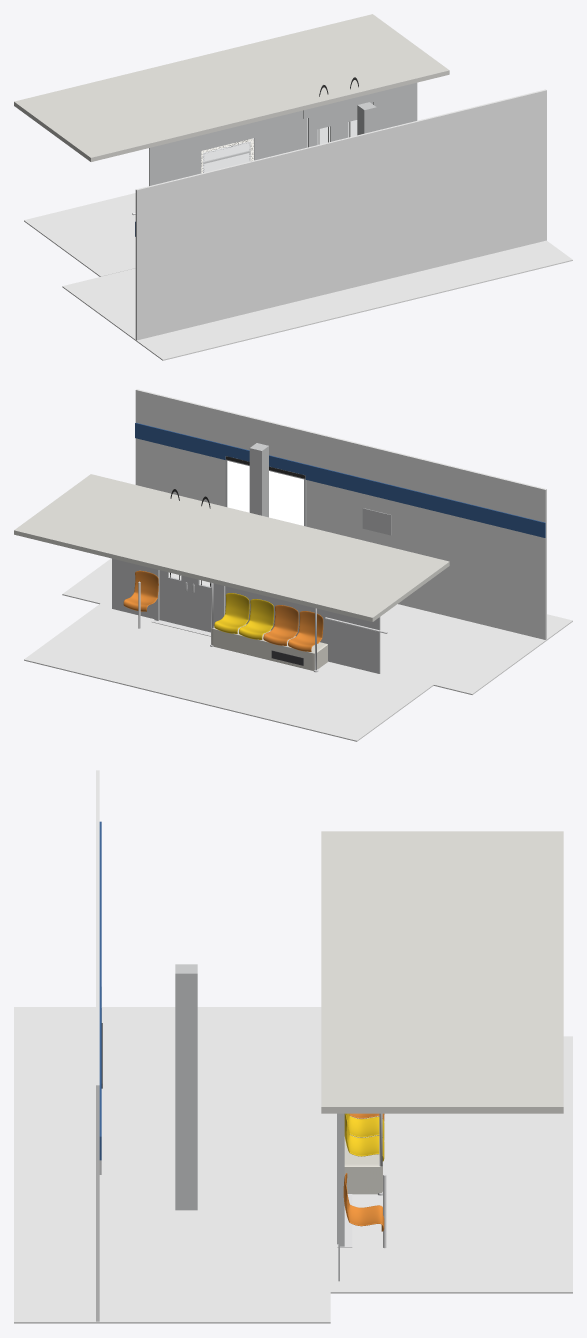
File: subway.glb
3 views of the same model, one above another, from view 1: azimuth 30°, elevation 25°; view 2: azimuth 150°, elevation 25°; view 3: azimuth 270°, elevation 25° (orthographic). The views are drawn at different scales.
Parts seen in each view (by area): view 1: Platform_Tile_Wall, Subway_Ceiling, Platform_Floor, Car_Floor, Wall_Panel_Right, Wall_Panel_Far_Left, Wall_Panel_Yellow_Seats, Window_Glass_Pane, Wall_Above_Window, Door_Right_Photo, Door_Header_Housing, Platform_Steel_Column; view 2: Platform_Tile_Wall, Subway_Ceiling, Car_Floor, Platform_Floor, Platform_Mosaic_Band, Platform_Map_Display, Wall_Panel_Right, Bench_Plinth, Door_Left_Photo, Platform_Steel_Column, Wall_Panel_Far_Left, Door_Right_Photo (+7 smaller); view 3: Platform_Floor, Subway_Ceiling, Car_Floor, Platform_Steel_Column, Platform_Tile_Wall, Bench_Plinth, Platform_Mosaic_Band, Seat_Orange_Edge, Seat_Yellow_1, Seat_Yellow_2.
Boxes of the visible parts, bbox=[...] form: Platform_Tile_Wall: bbox=[135, 89, 546, 340]; Subway_Ceiling: bbox=[14, 14, 449, 161]; Platform_Floor: bbox=[62, 240, 572, 360]; Car_Floor: bbox=[24, 193, 135, 276]; Wall_Panel_Right: bbox=[149, 135, 201, 185]; Wall_Panel_Far_Left: bbox=[373, 82, 417, 130]; Wall_Panel_Yellow_Seats: bbox=[263, 110, 303, 158]; Window_Glass_Pane: bbox=[204, 142, 250, 172]; Wall_Above_Window: bbox=[201, 122, 254, 150]; Door_Right_Photo: bbox=[308, 110, 339, 147]; Door_Header_Housing: bbox=[303, 93, 375, 118]; Platform_Steel_Column: bbox=[357, 102, 376, 135]; Platform_Tile_Wall: bbox=[135, 389, 546, 639]; Subway_Ceiling: bbox=[14, 474, 449, 621]; Car_Floor: bbox=[24, 603, 433, 741]; Platform_Floor: bbox=[62, 558, 572, 694]; Platform_Mosaic_Band: bbox=[135, 423, 545, 537]; Platform_Map_Display: bbox=[227, 461, 303, 525]; Wall_Panel_Right: bbox=[328, 611, 380, 673]; Bench_Plinth: bbox=[211, 624, 327, 670]; Door_Left_Photo: bbox=[159, 570, 189, 627]; Platform_Steel_Column: bbox=[249, 443, 268, 517]; Wall_Panel_Far_Left: bbox=[112, 558, 154, 618]; Door_Right_Photo: bbox=[190, 577, 219, 632]; Platform_Floor: bbox=[14, 1007, 330, 1323]; Subway_Ceiling: bbox=[321, 831, 563, 1113]; Car_Floor: bbox=[330, 1036, 572, 1293]; Platform_Steel_Column: bbox=[175, 964, 197, 1210]; Platform_Tile_Wall: bbox=[96, 770, 99, 1321]; Bench_Plinth: bbox=[344, 1115, 382, 1194]; Platform_Mosaic_Band: bbox=[99, 821, 101, 1160]; Seat_Orange_Edge: bbox=[343, 1173, 384, 1231]; Seat_Yellow_1: bbox=[344, 1113, 384, 1161]; Seat_Yellow_2: bbox=[346, 1113, 384, 1140].
Size of the model in its own units: 8 by 2.82 by 6.
